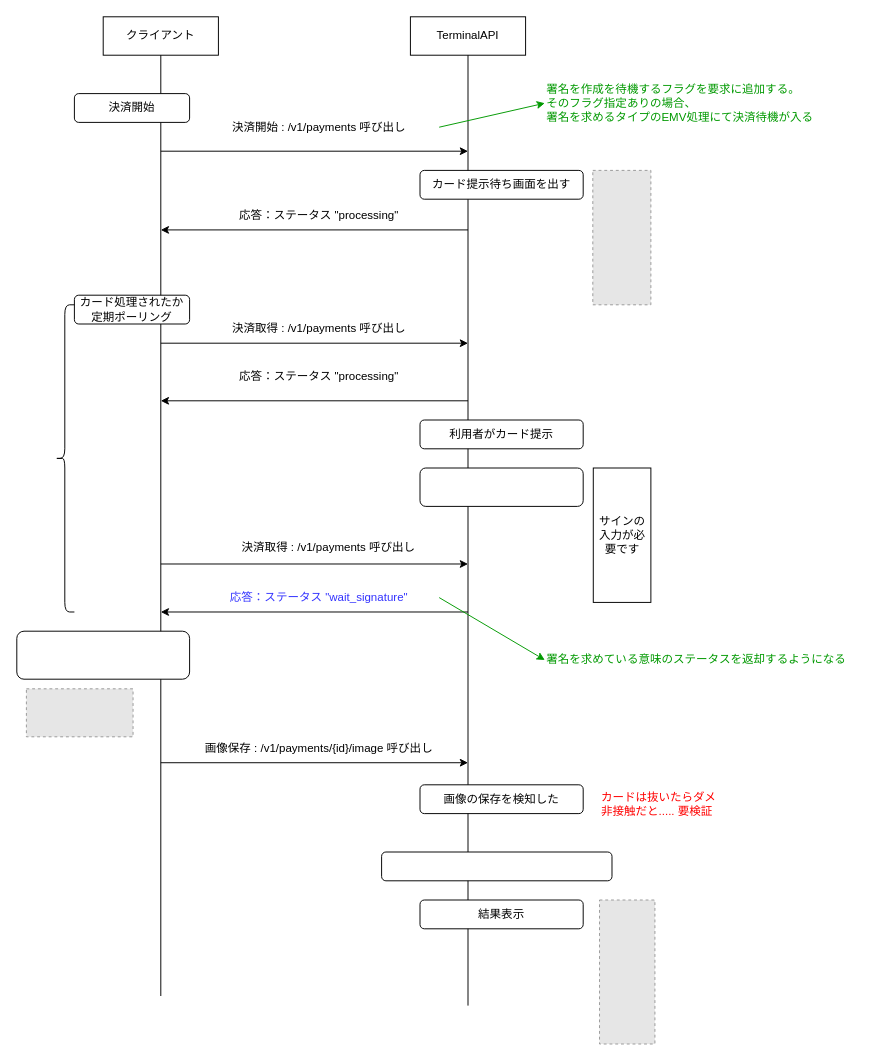
The diagram is 878 pixels wide and 1061 high, and some of its shapes have lost their labels. Grey dashed boxes stand in for pictures. The centre of each missing label's shape, as x and y in pixels:
"サインが必要な取引だった → 専用の待ち画面を出す" goes at point 501,486.
"必要なデータがそろったので先に進める → オンラインオーソリ" goes at point 496,866.
"署名待ちを検出した → 署名手書き入力を提示する" goes at point 103,654.
